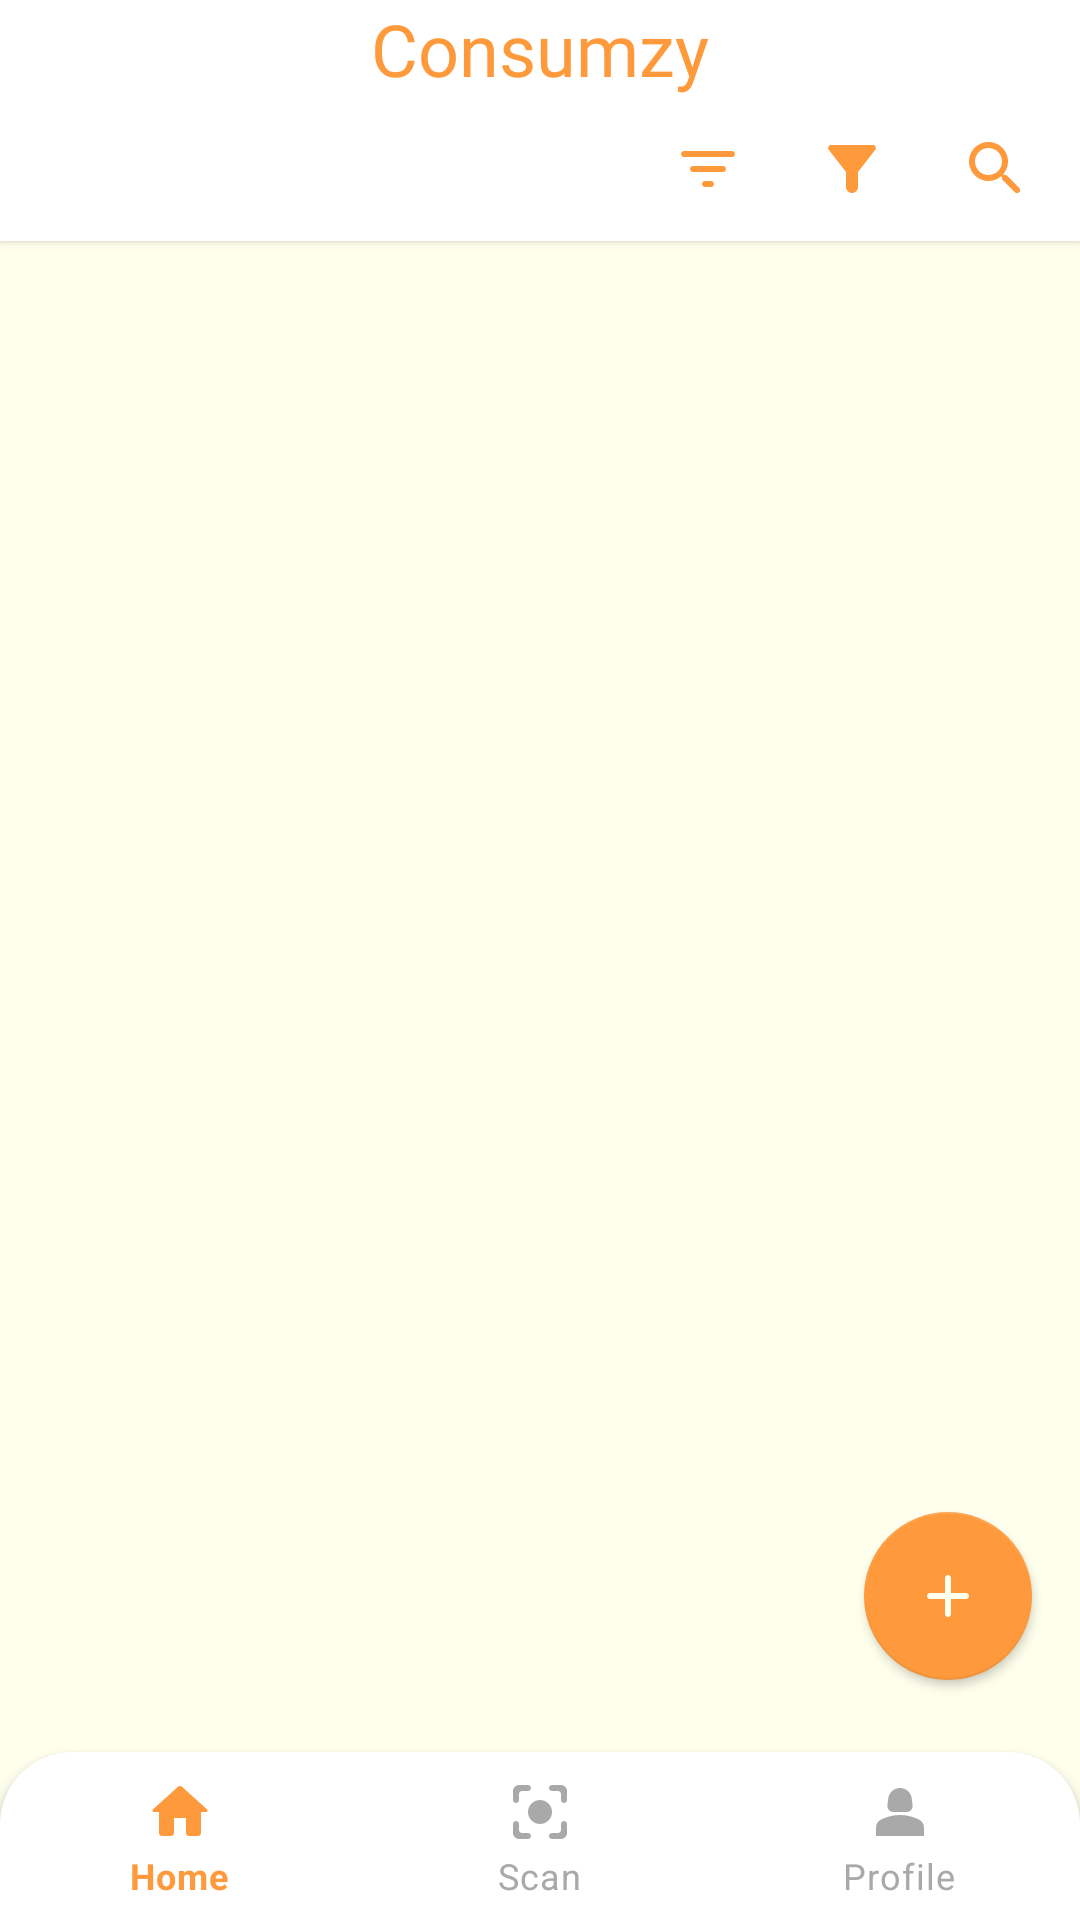

Icon click points for this 1080 × 1920 phone screenshot, format point (x, y):
Add Food: point (948, 1596)
